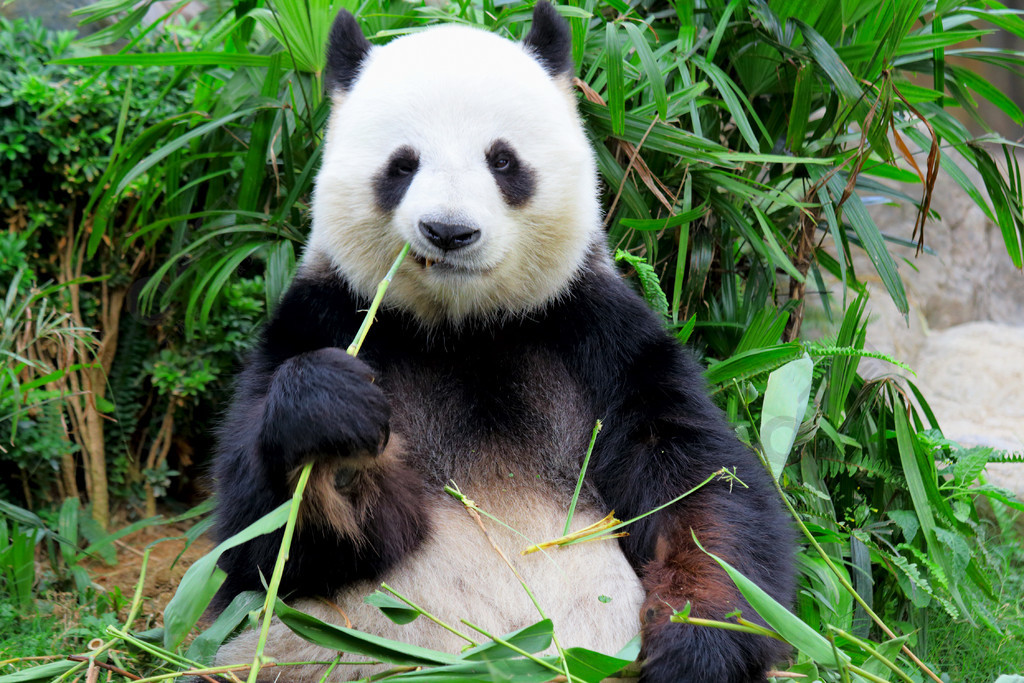panda: (211, 5, 819, 683)
